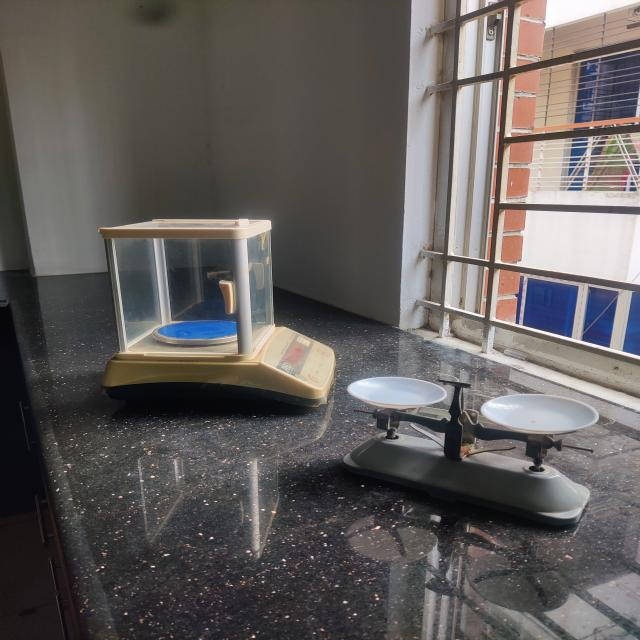Mechanical_Balance_Scale: (343, 363, 616, 540)
Precision_Weight_Scale: (90, 202, 340, 424)
